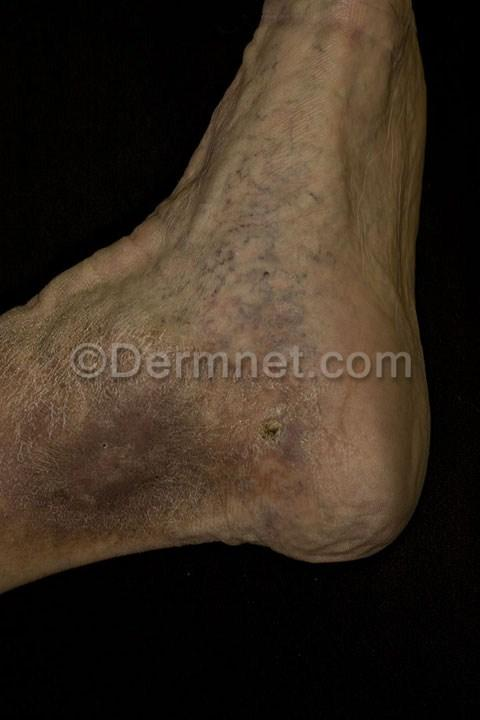Eczema: (248, 398, 355, 529), (0, 381, 92, 519), (151, 328, 244, 444), (65, 349, 158, 453), (190, 441, 291, 534), (98, 451, 205, 535), (212, 222, 299, 315), (129, 254, 218, 343), (239, 316, 315, 415), (252, 96, 335, 173), (1, 518, 97, 584), (0, 310, 71, 390), (63, 278, 132, 360), (239, 165, 307, 227), (276, 37, 334, 103), (201, 145, 254, 217), (289, 0, 348, 54), (212, 85, 261, 148), (243, 43, 286, 88)
